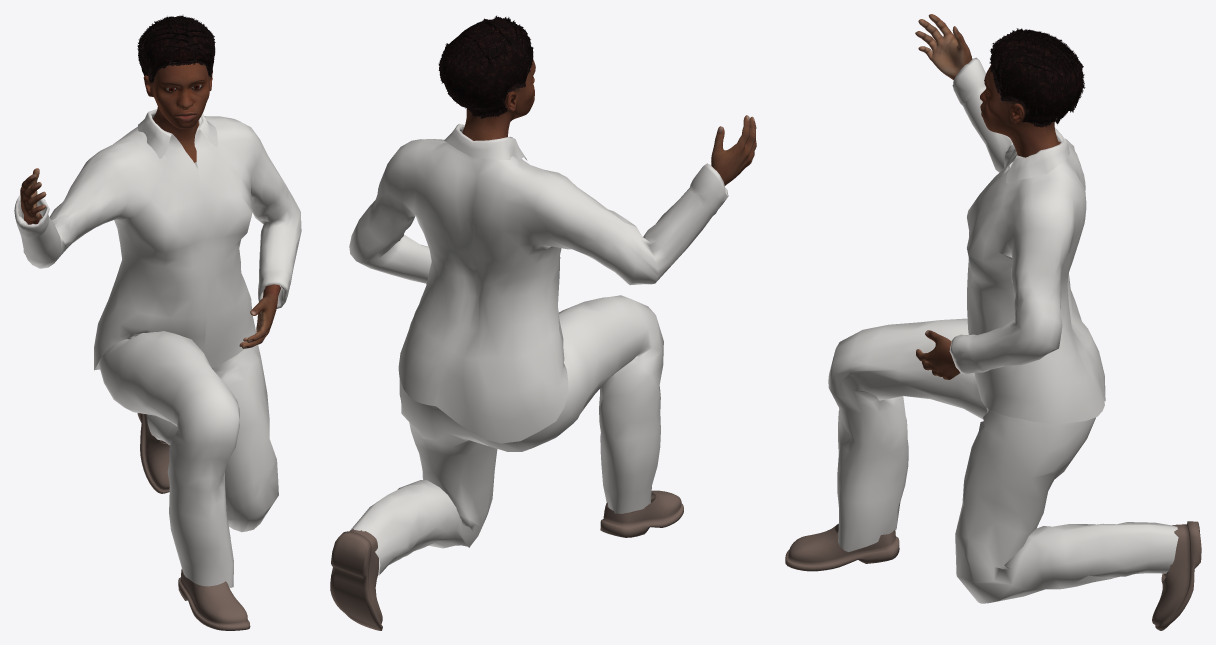
Rendered from devotee-aodai-nu.glb.
3 views of the same model, side by side, from view 1: azimuth 30°, elevation 25°; view 2: azimuth 150°, elevation 25°; view 3: azimuth 270°, elevation 25° (orthographic). The views are drawn at different scales.
Visible parts, largest first — view 1: male_casualsuit03, Morgan | anatomical body, shoes04, afro01; view 2: male_casualsuit03, afro01, shoes04, Morgan | anatomical body; view 3: male_casualsuit03, afro01, Morgan | anatomical body, shoes04.
Part boxes in pixels (left/top/right/bottom): male_casualsuit03: left=14, top=109, right=301, bottom=587; Morgan | anatomical body: left=20, top=63, right=280, bottom=348; shoes04: left=137, top=413, right=250, bottom=630; afro01: left=137, top=15, right=215, bottom=82; male_casualsuit03: left=349, top=123, right=728, bottom=575; afro01: left=438, top=15, right=533, bottom=118; shoes04: left=330, top=490, right=683, bottom=630; Morgan | anatomical body: left=462, top=59, right=756, bottom=185; male_casualsuit03: left=828, top=57, right=1178, bottom=603; afro01: left=989, top=28, right=1085, bottom=127; Morgan | anatomical body: left=915, top=14, right=1060, bottom=379; shoes04: left=785, top=521, right=1201, bottom=630.
Size of the model in its own units: 0.8658 by 1.35 by 0.8984.
Materials: 9 (7 with a texture image).
